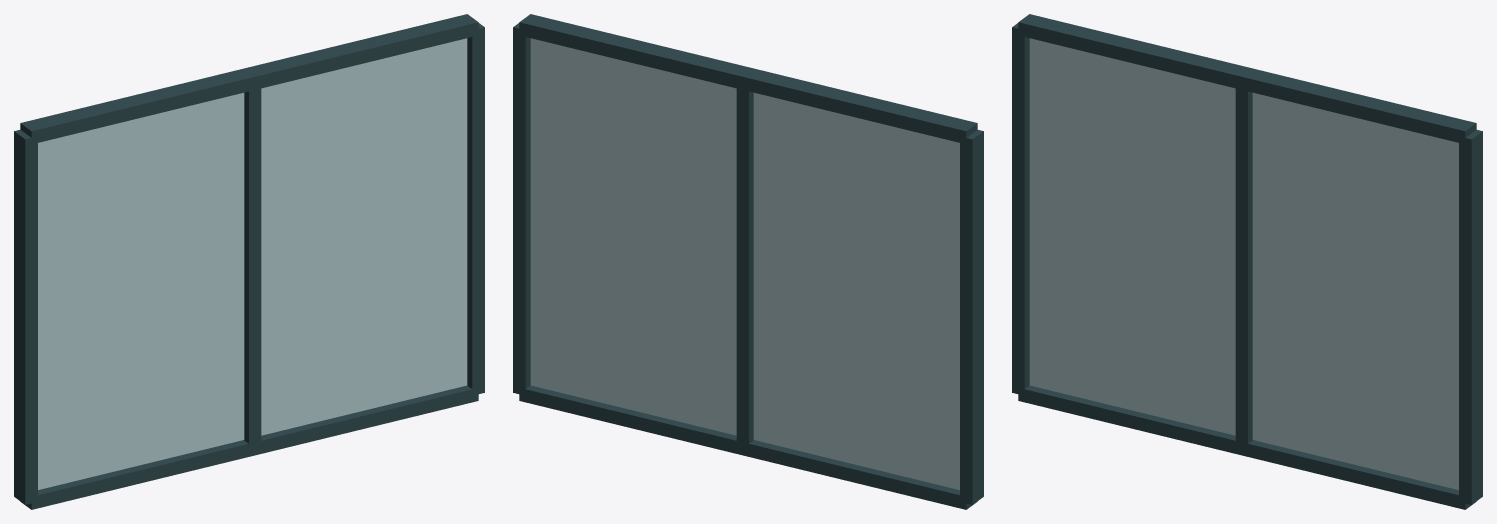
The model's file is casement_window.glb.
3 renders of one model, left to right at view 1: azimuth 30°, elevation 25°; view 2: azimuth 150°, elevation 25°; view 3: azimuth 330°, elevation 25°, orthographic.
Parts seen in each view (by area): view 1: glass, frame-vertical (×3), frame-horizontal (×2); view 2: glass, frame-vertical (×3), frame-horizontal (×2); view 3: glass, frame-vertical (×3), frame-horizontal (×2).
Part boxes in pixels (left/top/right/bottom): glass: left=38, top=38, right=467, bottom=489; frame-vertical (×3): left=14, top=23, right=484, bottom=504; frame-horizontal (×2): left=20, top=14, right=478, bottom=509; glass: left=530, top=38, right=959, bottom=489; frame-vertical (×3): left=513, top=23, right=983, bottom=504; frame-horizontal (×2): left=519, top=14, right=977, bottom=509; glass: left=1029, top=38, right=1458, bottom=489; frame-vertical (×3): left=1012, top=23, right=1482, bottom=504; frame-horizontal (×2): left=1018, top=14, right=1476, bottom=509.
Bounding box in the file's own units: 1.65 × 1.3 × 0.07.
